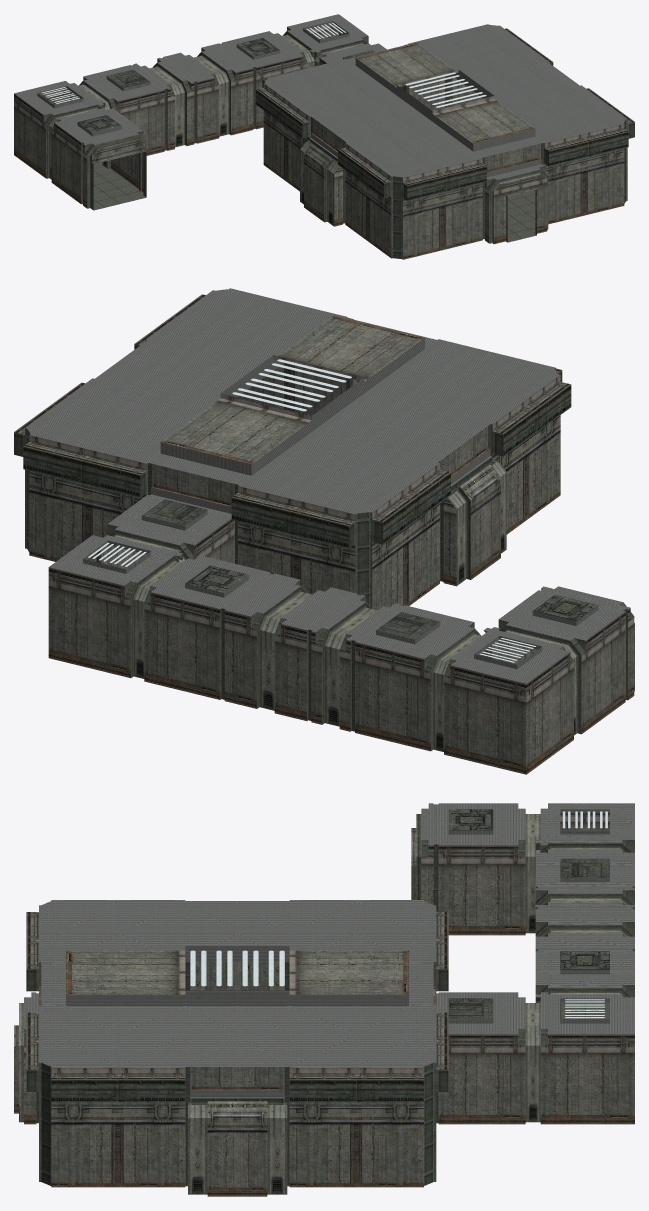
Rendered from poi_all_impl_bunker_crimelord_retreat_s01_r21_guardpost02_mesh_r21.fbx.
3 renders of one model, top to bottom at view 1: azimuth 30°, elevation 25°; view 2: azimuth 150°, elevation 25°; view 3: azimuth 270°, elevation 25°, orthographic. The views are drawn at different scales.
Parts seen in each view (by area): view 1: mesh_node; view 2: mesh_node; view 3: mesh_node.
Boxes of the visible parts, box(x1,y1,x2,y2) form: mesh_node: box(14, 14, 634, 259); mesh_node: box(14, 288, 634, 774); mesh_node: box(14, 803, 634, 1196).
Bounding box in the file's own units: 28.9 × 6 × 25.
